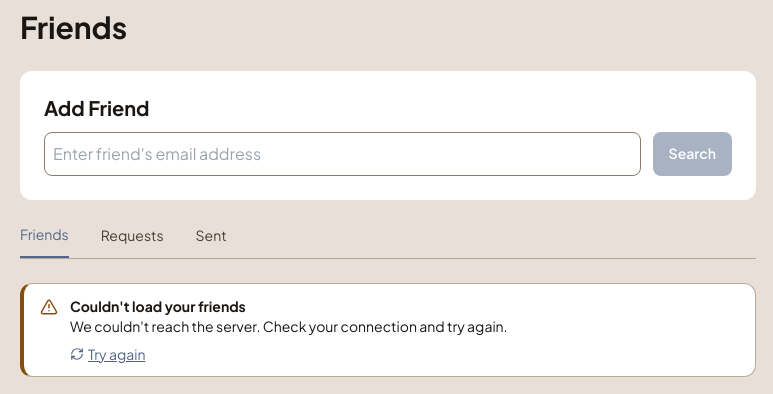
Test: friends list › retries the fetch from the error surface
This screenshot has width=773, height=394.
Click the button "Try again".
click(108, 354)  # box [70,344,146,364]
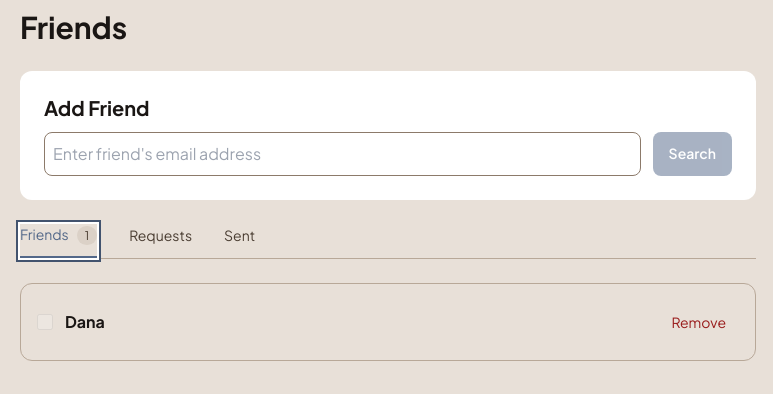
Expected: the text "Dana" is shown, [65,310,105,334]
Expected: the text "Couldn't load your friends" is gone
